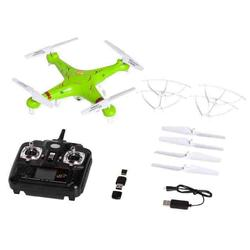drone: (12, 37, 146, 121)
